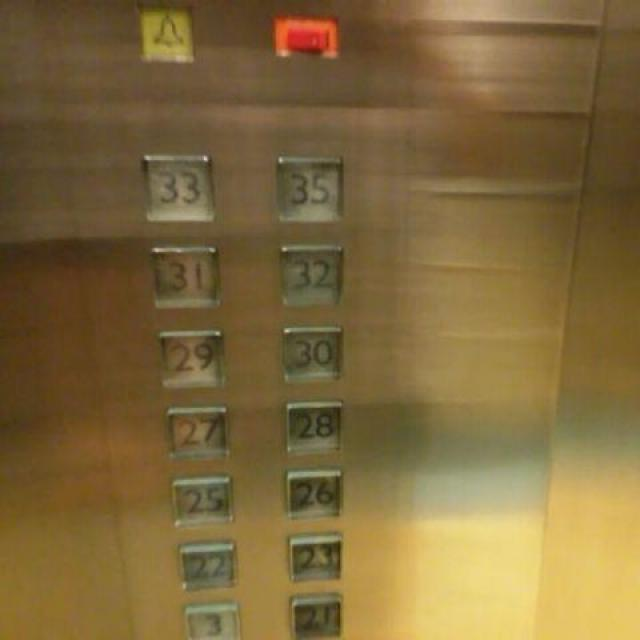21: (287, 589, 344, 639)
22: (175, 536, 237, 592)
23: (286, 529, 342, 583)
25: (167, 474, 234, 530)
26: (284, 465, 341, 519)
27: (164, 401, 228, 460)
28: (282, 396, 342, 455)
29: (155, 324, 224, 392)
3: (182, 600, 238, 639)
30: (282, 324, 342, 385)
31: (149, 244, 219, 309)
32: (279, 243, 341, 308)
33: (142, 150, 218, 222)
35: (272, 152, 344, 224)
alarm: (134, 3, 194, 64)
switch: (272, 10, 337, 62)
